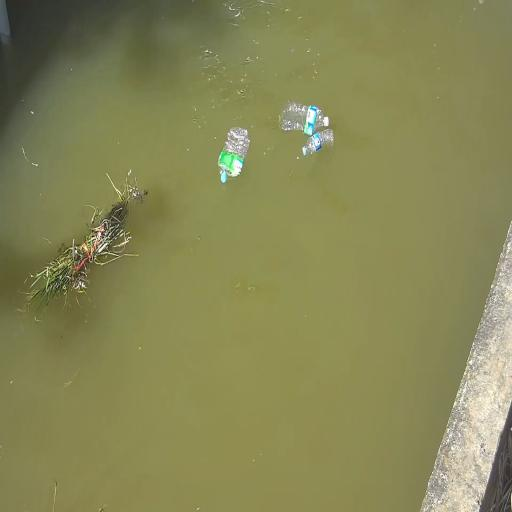plastic: (218, 127, 250, 182), (280, 102, 328, 135), (303, 129, 333, 156)
twig: (27, 174, 147, 309)
